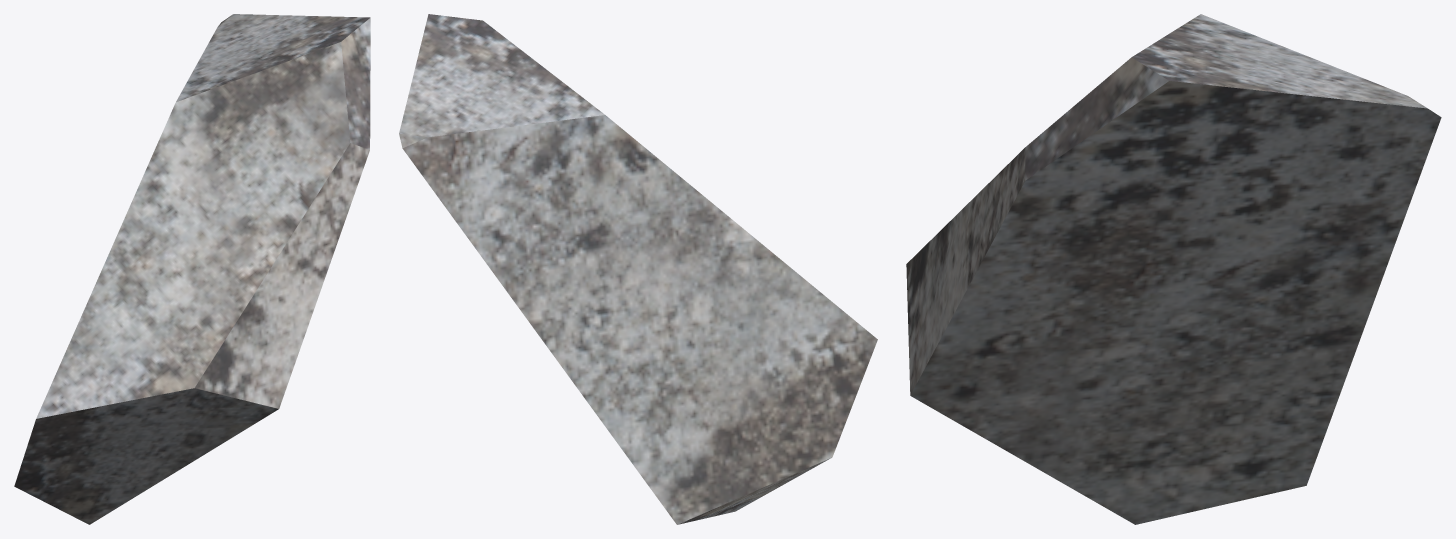
File: Asteroid_Large_001_02_012_03_013.fbx
3 renders of one model, left to right at view 1: azimuth 30°, elevation 25°; view 2: azimuth 150°, elevation 25°; view 3: azimuth 270°, elevation 25°, orthographic. The views are drawn at different scales.
Visible parts, largest first — view 1: Asteroid_Large_001_02_012_03_013; view 2: Asteroid_Large_001_02_012_03_013; view 3: Asteroid_Large_001_02_012_03_013.
Part boxes in pixels (x1,y1,x2,y2): Asteroid_Large_001_02_012_03_013: (14,14,370,524); Asteroid_Large_001_02_012_03_013: (399,14,877,524); Asteroid_Large_001_02_012_03_013: (906,14,1441,524).
Bounding box in the file's own units: 7.72 × 8.12 × 5.91.
